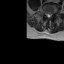CCS_stenosis: (48, 12, 49, 19)
LFS_stenosis: (52, 11, 54, 16)
LLS_normal: (49, 12, 52, 18)
RFS_normal: (44, 11, 46, 17)
RLS_normal: (46, 12, 48, 17)
